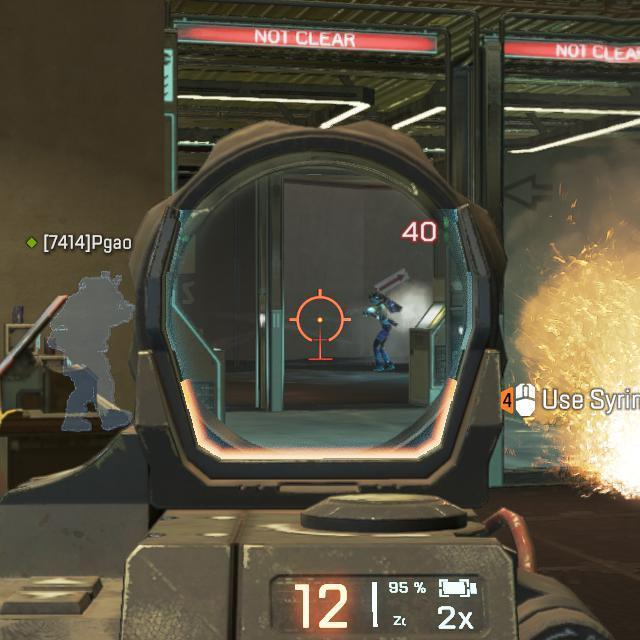avatar: (361, 290, 403, 373)
